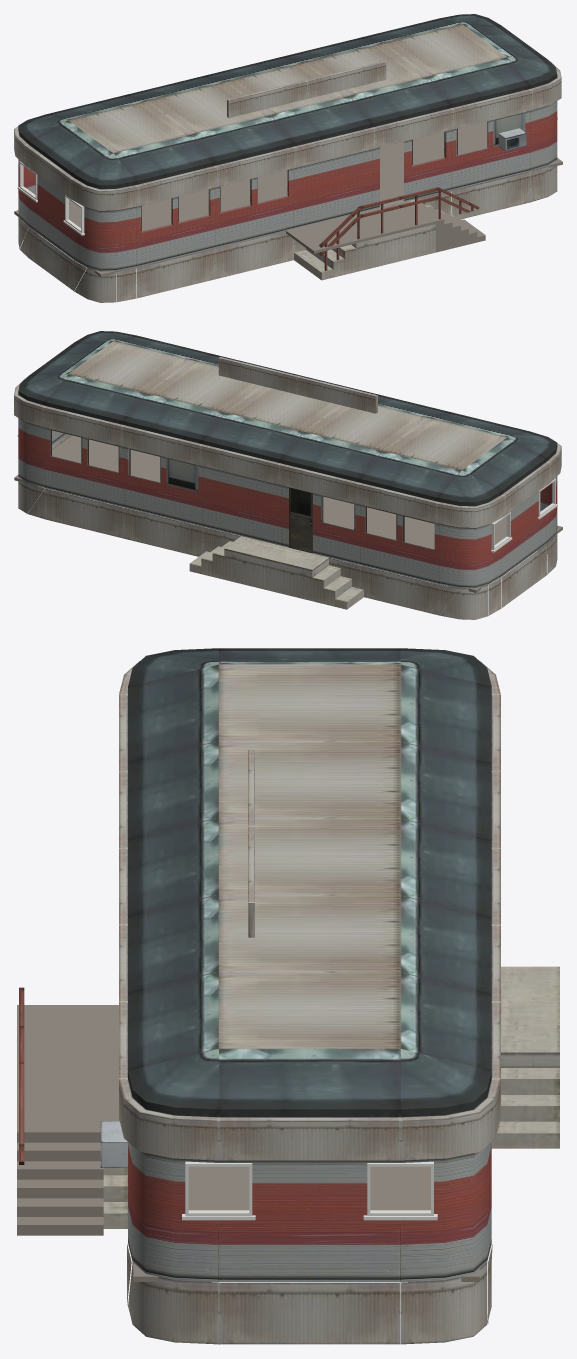
File: rural-diner.zfix-v21.lod0.glb
The picture shows the model from 3 angles, top to bottom: view 1: azimuth 30°, elevation 25°; view 2: azimuth 150°, elevation 25°; view 3: azimuth 270°, elevation 25°; orthographic projection. The views are drawn at different scales.
Parts seen in each view (by area): view 1: Rural_Diner_1_Rural_Facade_FLR_2_0, Rural_Diner_1_Rural_Trailer_Stuff_1_0, Walkable floors and stairs, Window trim; view 2: Rural_Diner_1_Rural_Facade_FLR_2_0, Rural_Diner_1_Rural_Trailer_Stuff_1_0, Walkable floors and stairs, Window trim; view 3: Rural_Diner_1_Rural_Facade_FLR_2_0, Rural_Diner_1_Rural_Trailer_Stuff_1_0, Walkable floors and stairs, Window trim.
Boxes of the visible parts, x1,y1,x2,y2 form: Rural_Diner_1_Rural_Facade_FLR_2_0: [14, 14, 561, 302]; Rural_Diner_1_Rural_Trailer_Stuff_1_0: [18, 101, 557, 271]; Walkable floors and stairs: [14, 121, 562, 277]; Window trim: [17, 118, 557, 235]; Rural_Diner_1_Rural_Facade_FLR_2_0: [14, 331, 561, 619]; Rural_Diner_1_Rural_Trailer_Stuff_1_0: [18, 418, 557, 588]; Walkable floors and stairs: [14, 435, 562, 592]; Window trim: [17, 435, 557, 552]; Rural_Diner_1_Rural_Facade_FLR_2_0: [19, 648, 559, 1344]; Rural_Diner_1_Rural_Trailer_Stuff_1_0: [128, 1142, 491, 1281]; Walkable floors and stairs: [17, 1005, 479, 1281]; Window trim: [182, 1161, 437, 1220].
Size of the model in its own units: 18.3 by 5.31 by 8.96.
4 materials, 2 textured.
